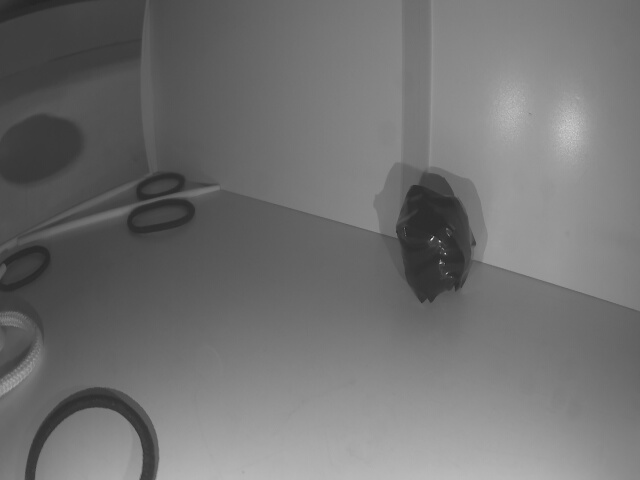Dead: (398, 185, 477, 300)
